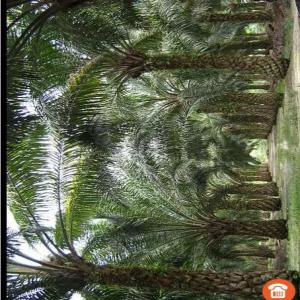palm tree: (3, 0, 297, 299)
